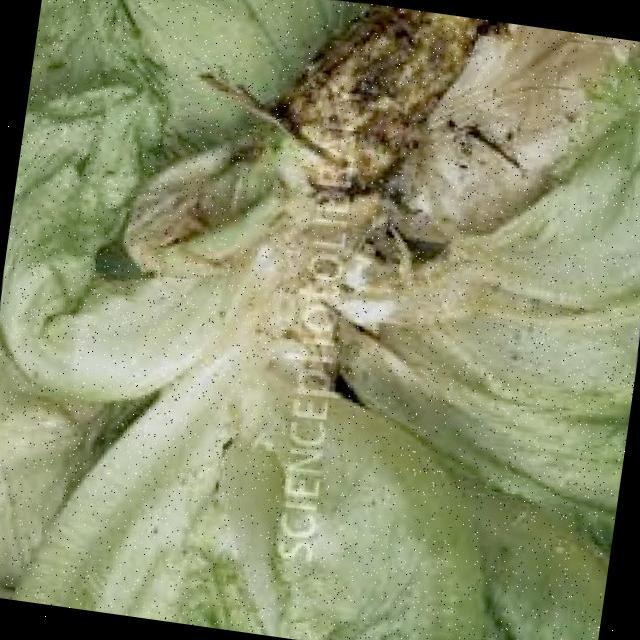Septoria_Blight: (14, 0, 640, 529)
